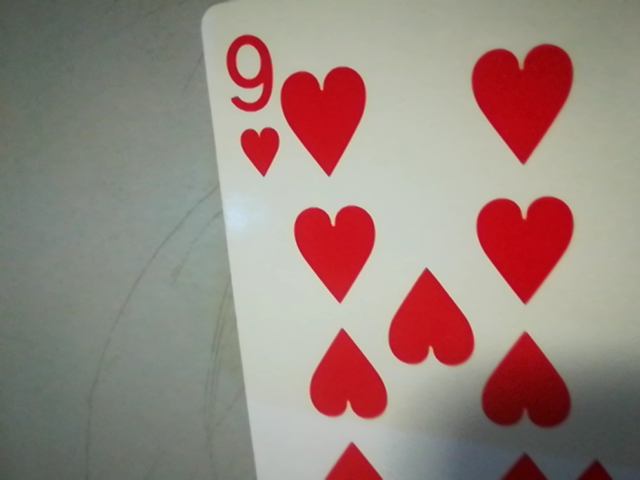hx 9: (213, 23, 284, 180)
